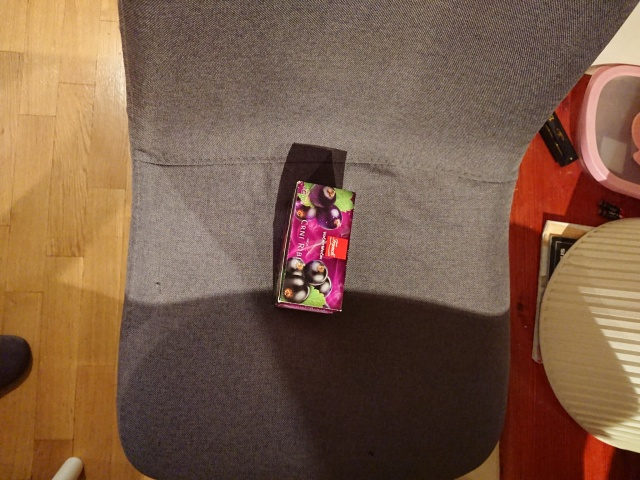Franck Black Currant Tea 60g: (270, 178, 359, 317)
